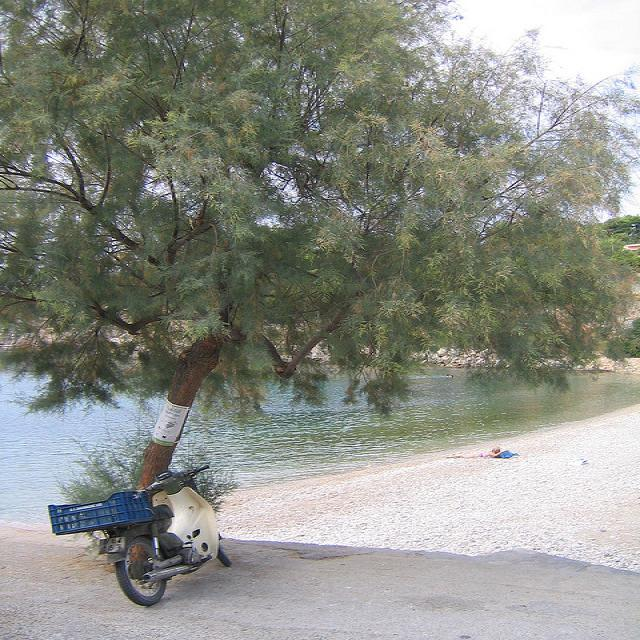motor: (103, 462, 231, 607)
